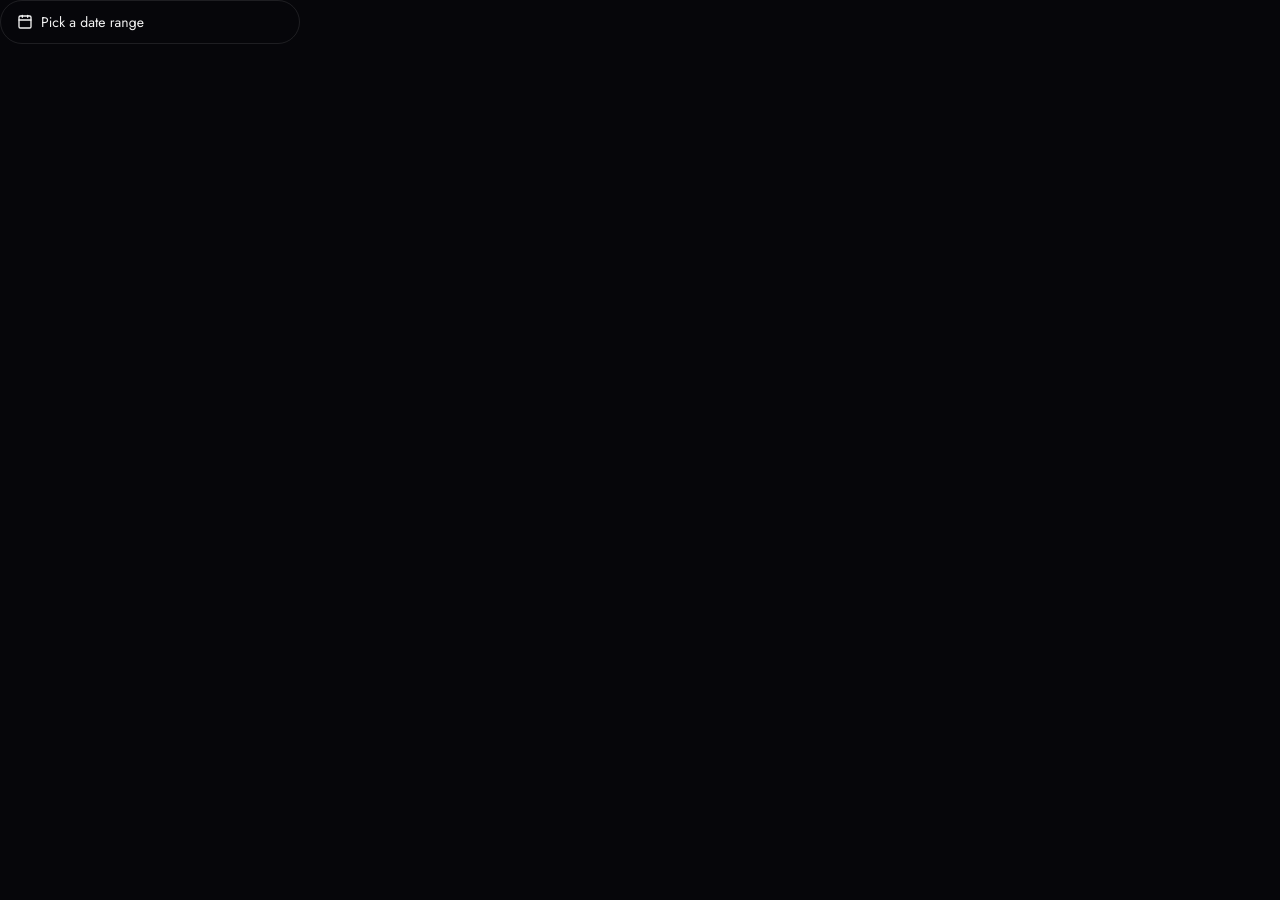
Test: DateRangePicker › clears back to blank in a fully controlled picker that started with no value
What coordinates should you click on to do the following:
click the dropdown
I would click on:
 (92, 22)
Its box is [0, 0, 300, 44].
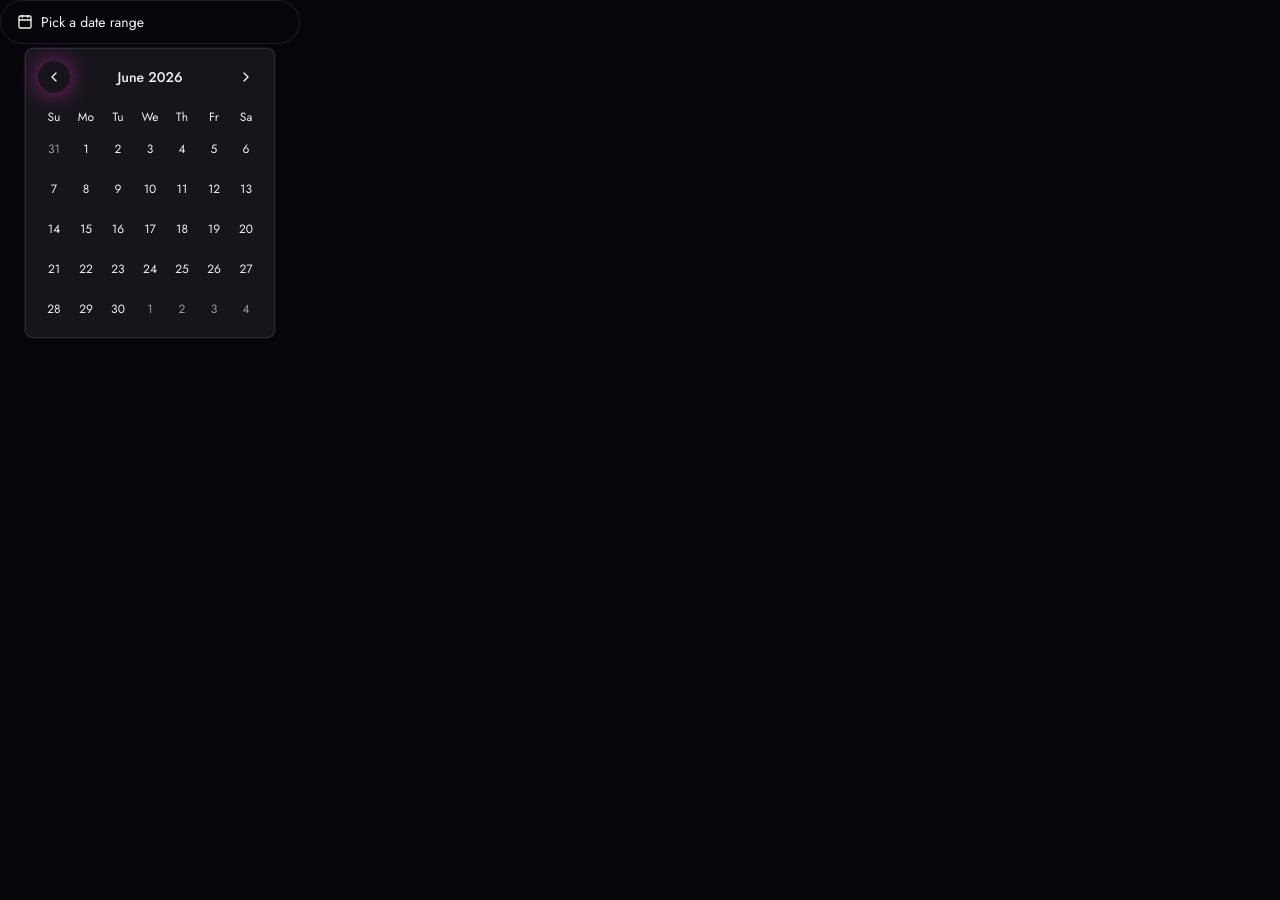
What coordinates should you click on to do the following:
click the button named "10th"
I would click on:
 (150, 189)
Its box is [134, 173, 166, 205].
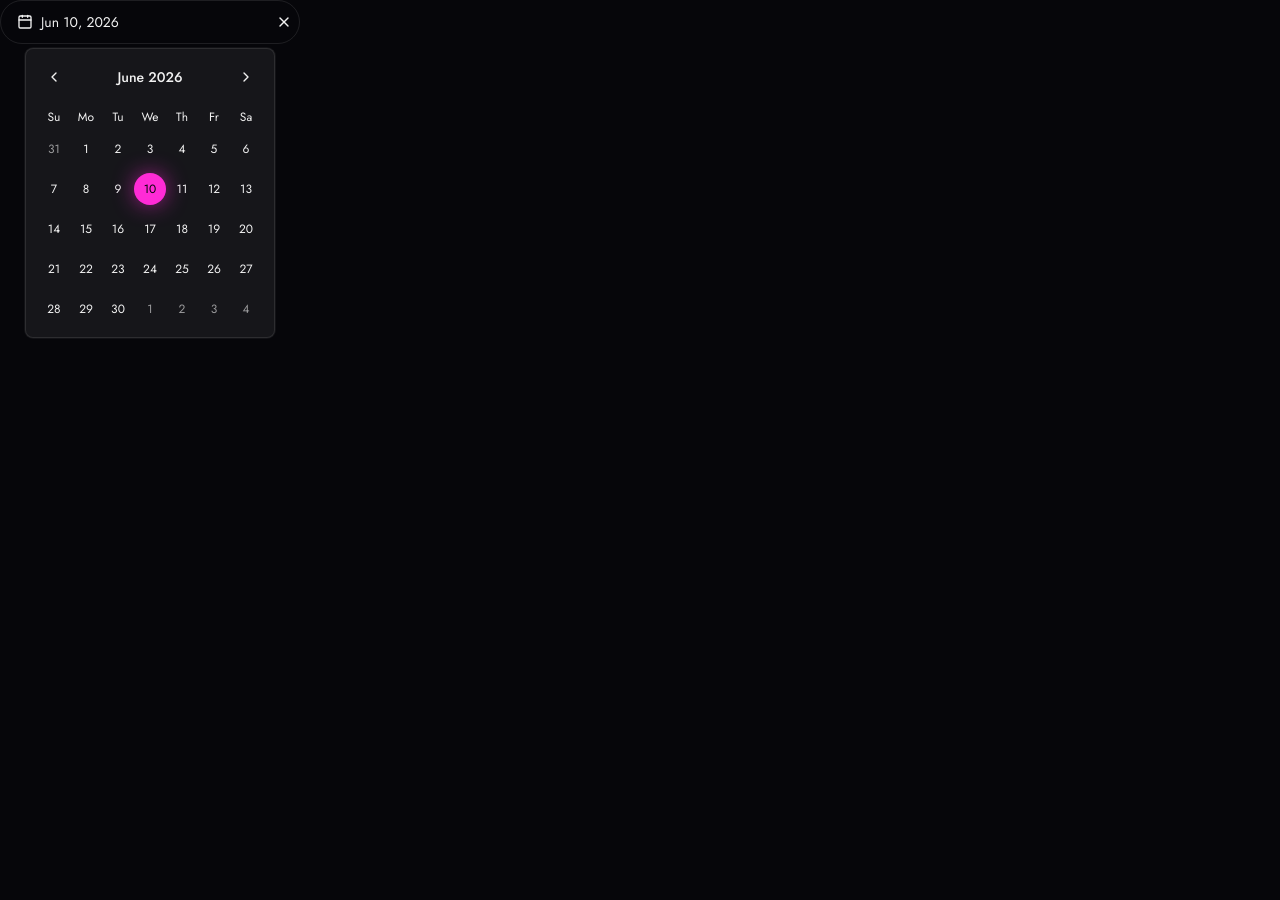
What coordinates should you click on to do the following:
click the button named "20th"
I would click on:
 (246, 229)
Its box is [230, 213, 262, 245].
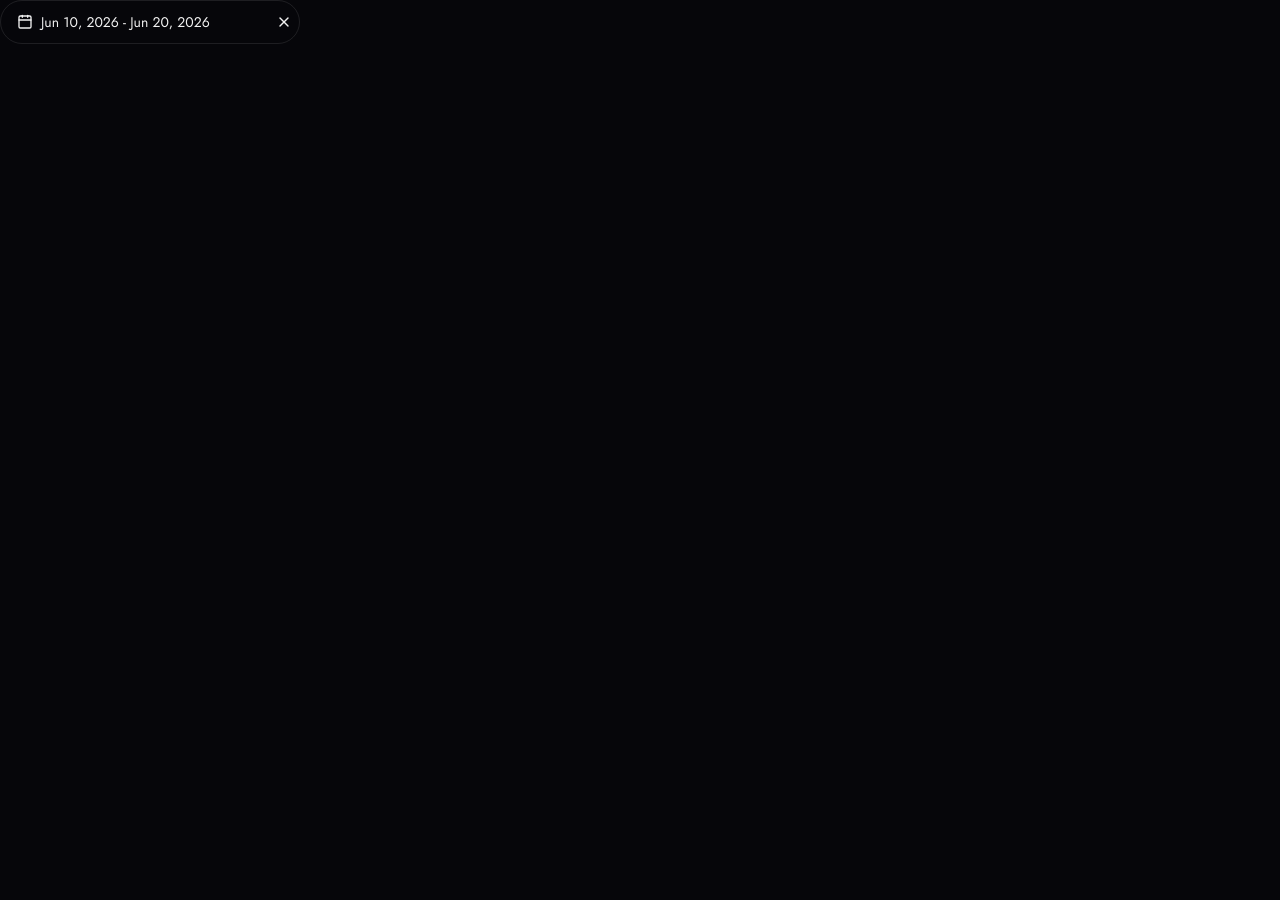
expect the dropdown does not show "Pick a date range": met, box [0, 0, 300, 44]
What coordinates should you click on to do the following:
click the button named "clear date range"
I would click on:
 (284, 22)
Its box is [276, 14, 292, 30].
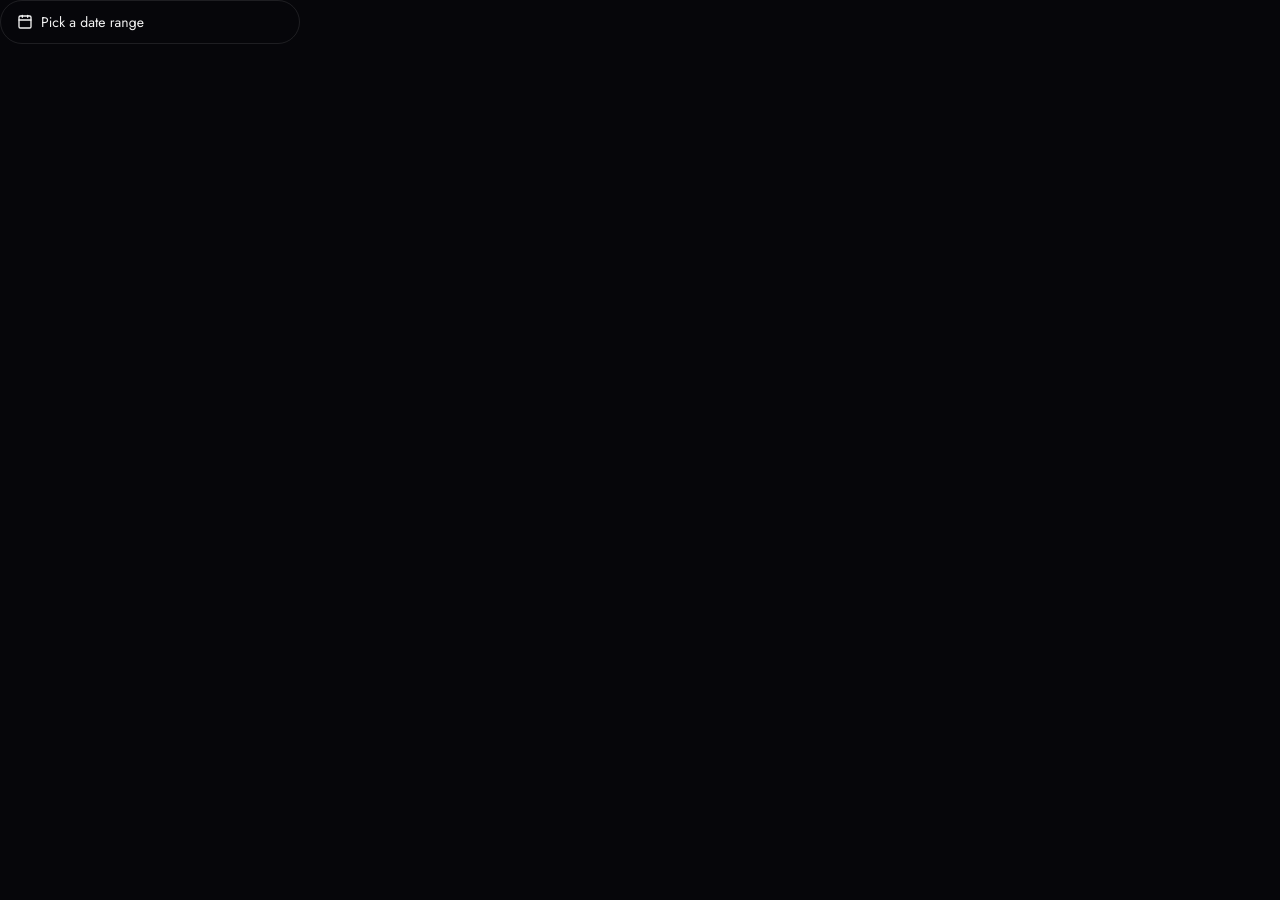
expect the dropdown reads "Pick a date range": met, box [0, 0, 300, 44]
